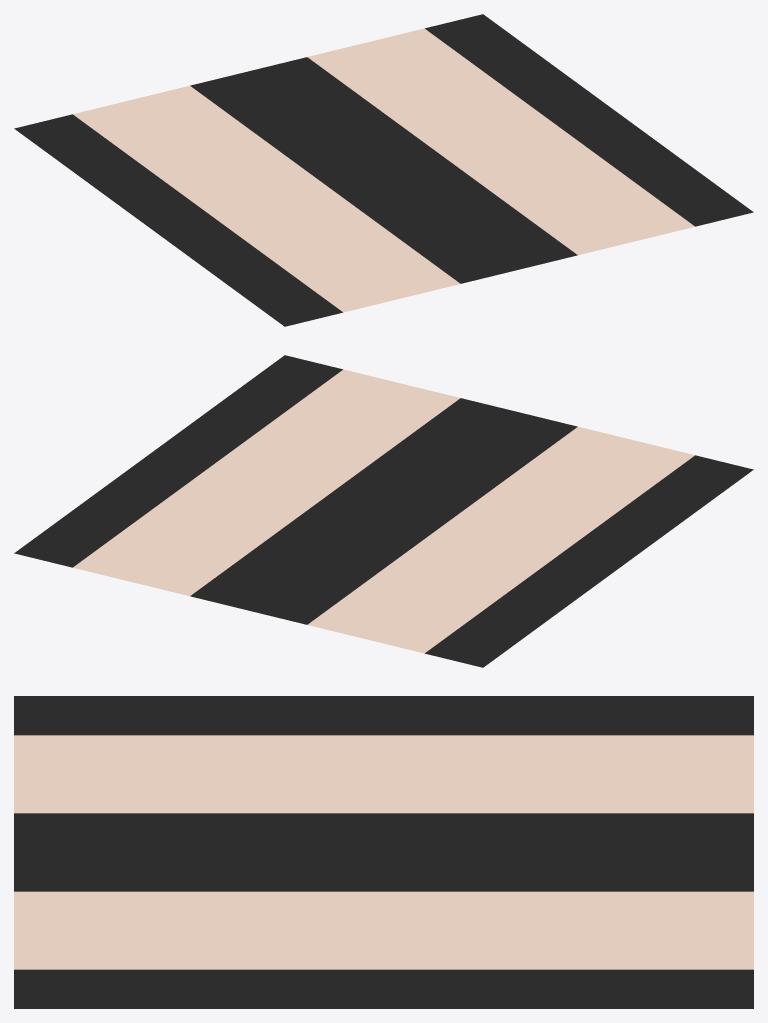
The model's file is zebra.fbx.
3 renders of one model, top to bottom at view 1: azimuth 30°, elevation 25°; view 2: azimuth 150°, elevation 25°; view 3: azimuth 270°, elevation 25°, orthographic. The views are drawn at different scales.
Parts seen in each view (by area): view 1: road_black_zebra_crossing; view 2: road_black_zebra_crossing; view 3: road_black_zebra_crossing.
Boxes of the visible parts, x1,y1,x2,y2 form: road_black_zebra_crossing: [14, 14, 753, 326]; road_black_zebra_crossing: [14, 355, 753, 667]; road_black_zebra_crossing: [14, 696, 753, 1008].
Size of the model in its own units: 299 by 4.87e-05 by 299.
